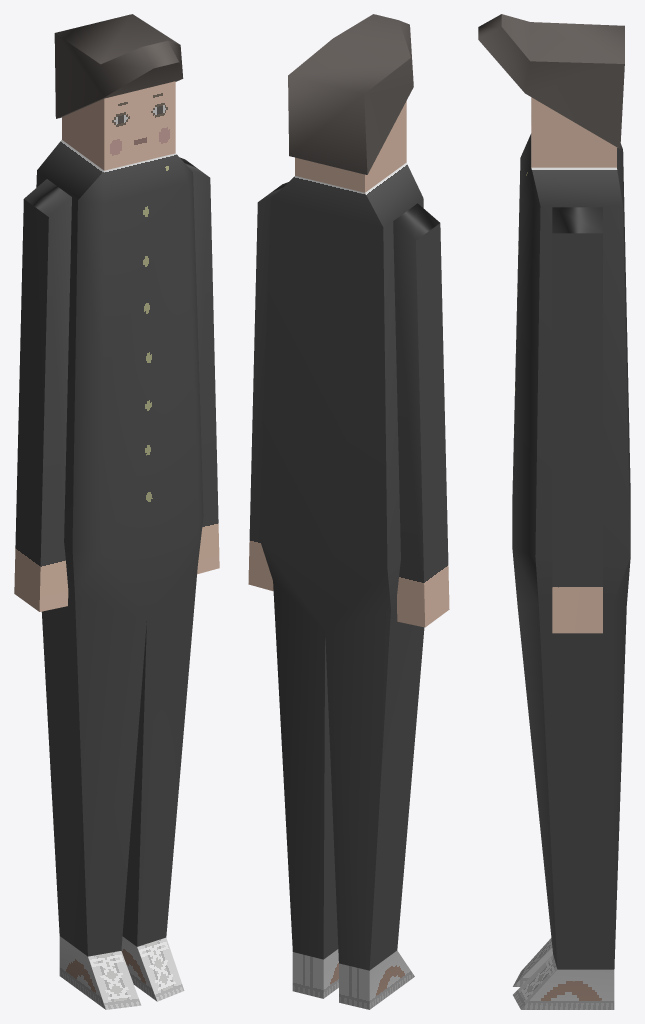
Rendered from 0216_Tall_Schoolboy.glb.
The picture shows the model from 3 angles, left to right: view 1: azimuth 30°, elevation 25°; view 2: azimuth 150°, elevation 25°; view 3: azimuth 270°, elevation 25°; orthographic projection. The views are drawn at different scales.
Parts seen in each view (by area): view 1: part_0; view 2: part_0; view 3: part_0.
Boxes of the visible parts, x1=… form: part_0: x1=14, y1=14, x2=219, y2=1009; part_0: x1=248, y1=14, x2=449, y2=1009; part_0: x1=478, y1=14, x2=630, y2=1009.
Bounding box in the file's own units: 0.4775 × 2.44 × 0.3468.
Materials: 1 (1 with a texture image).
